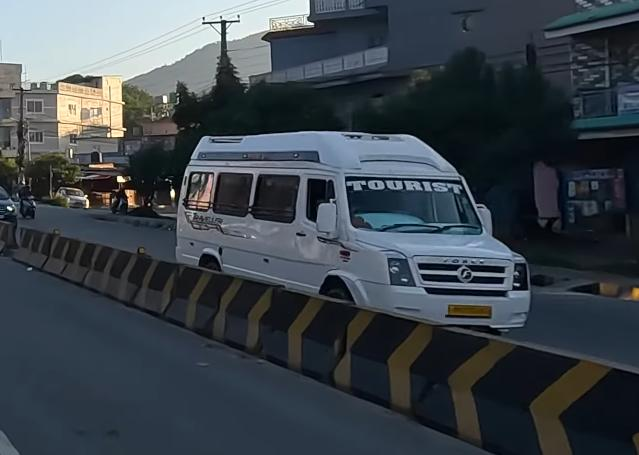micro_bus: (169, 129, 537, 347)
